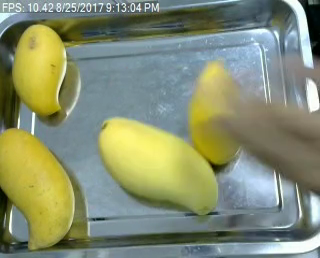Mango: (95, 117, 219, 217), (0, 127, 76, 253), (182, 64, 246, 167), (10, 21, 67, 117)
